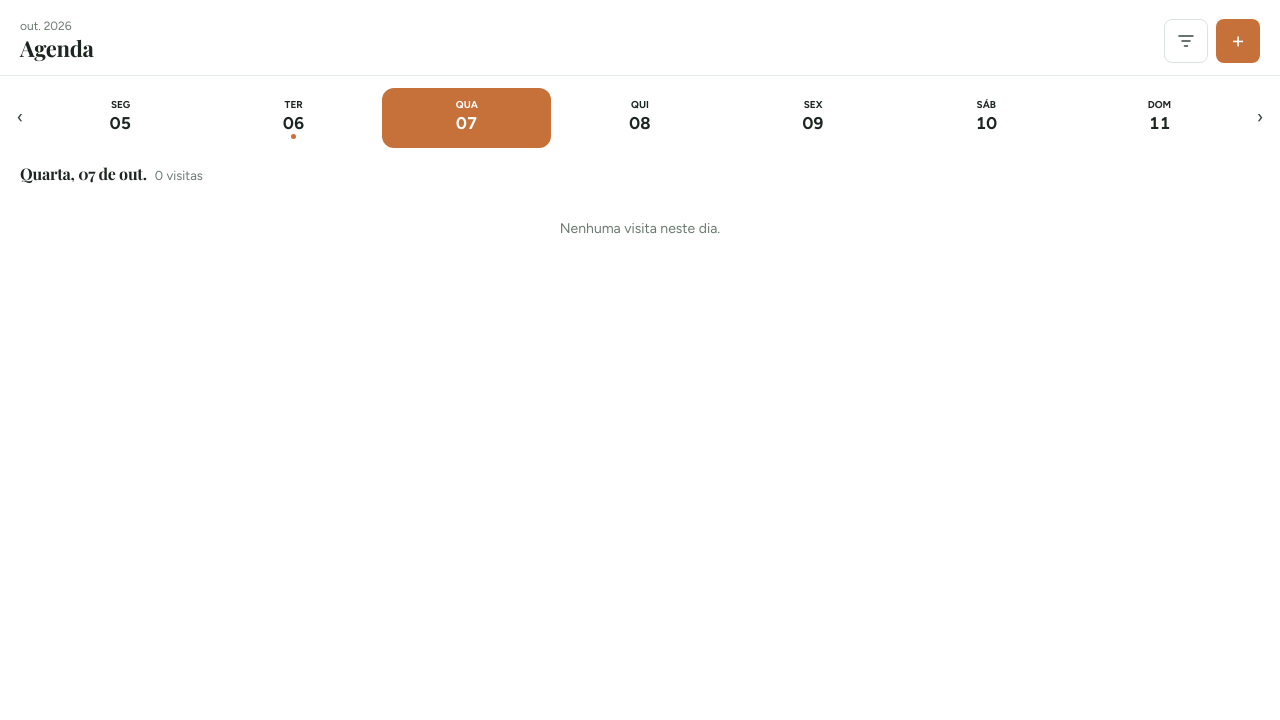
Registro da visita (CRMLAB-88) › "Cheguei" faz o check-in e a visita passa a mostrar "Saí"
Click the tab with aria-label "Terça, 06 de out., com visitas". click: point(294, 118)
box: [209,88,378,148]
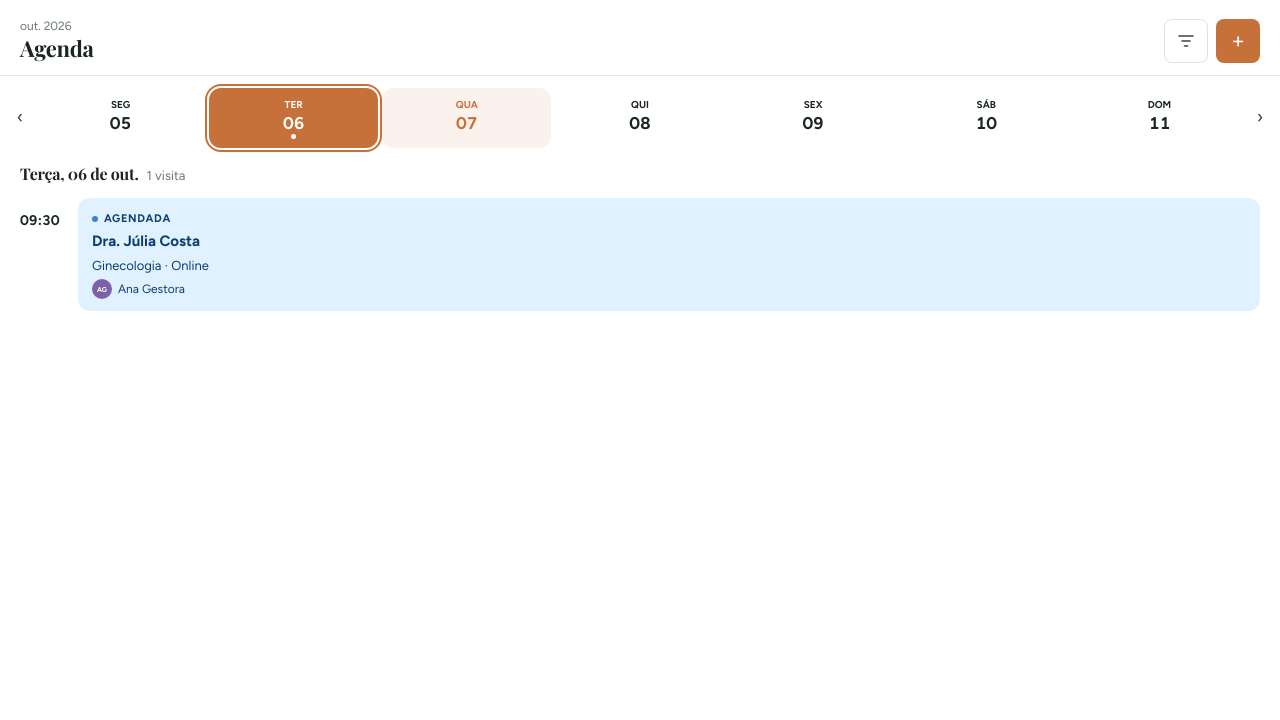
Click the text "Dra. Júlia Costa". click: point(146, 242)
box: [92,230,200,253]
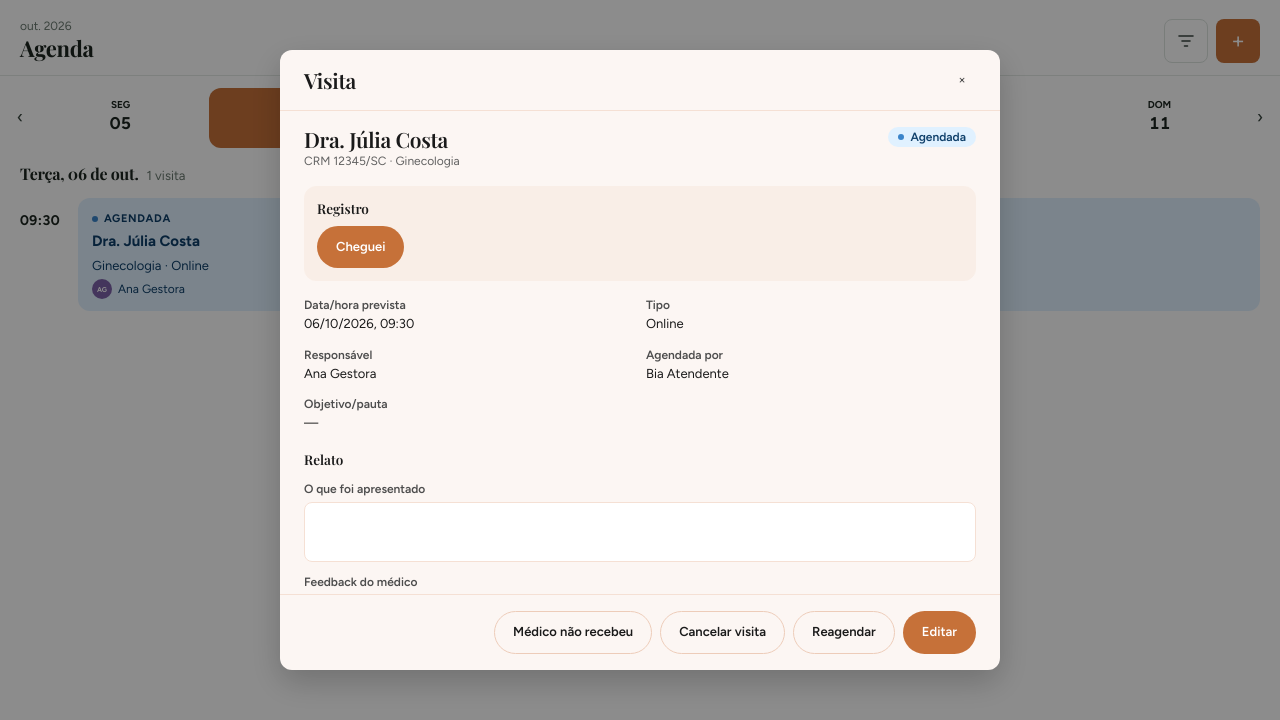
Click the button "Cheguei". click: point(361, 247)
box: [317,226,404,268]
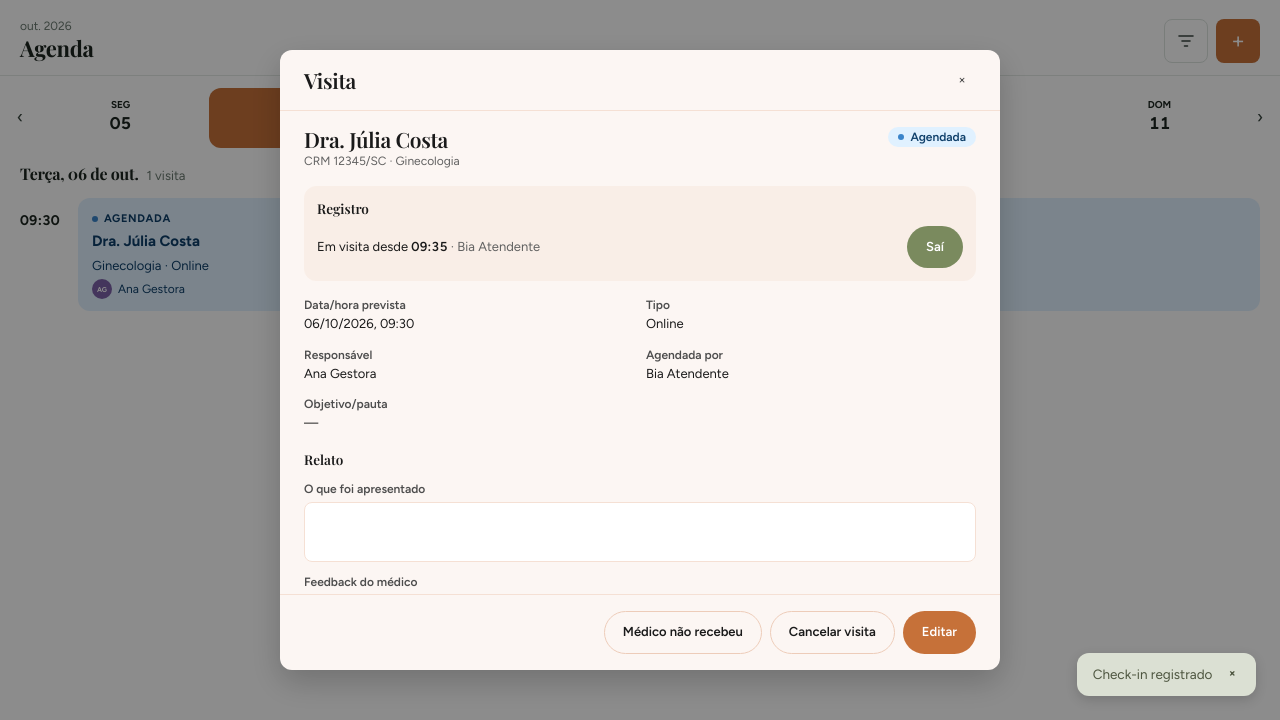
Expected: the button "Saí" is shown, [907,226,963,268]
Expected: the element with test id "visit-check" shows "Em visita desde 09:35 · Bia Atendente", [304,186,976,281]
Expected: the button "Cheguei" is gone
